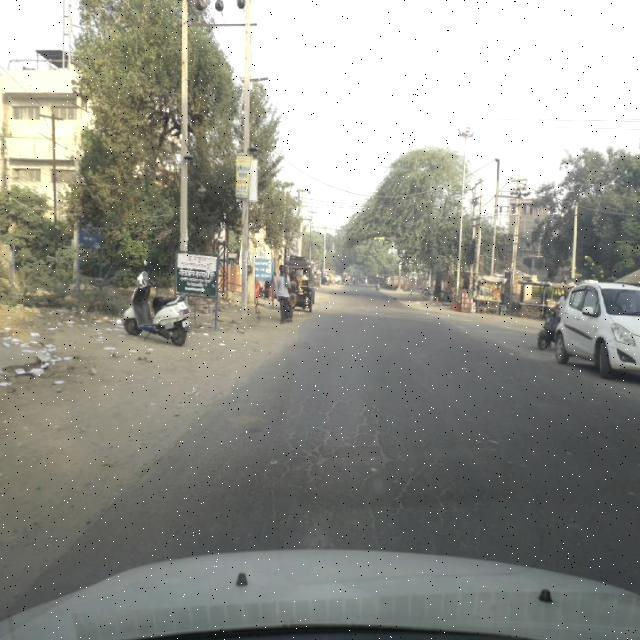D20: (274, 384, 469, 524)
